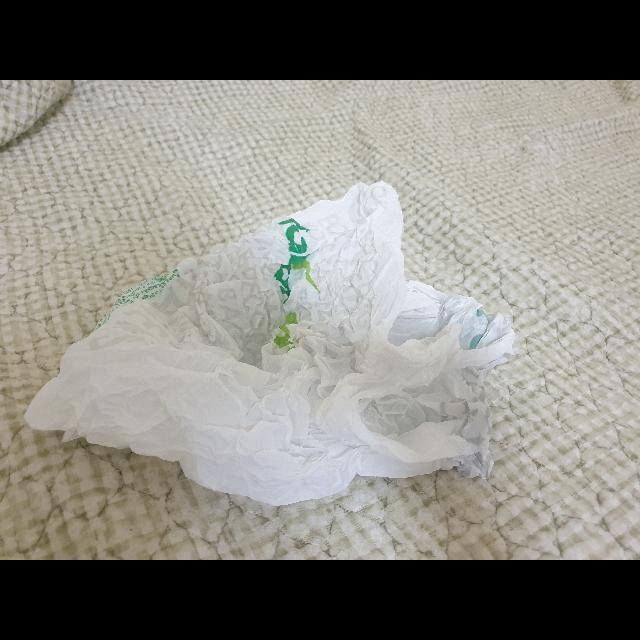plastic_bag: (21, 178, 524, 507)
